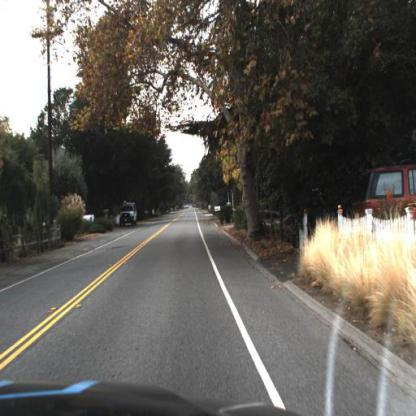car: (352, 166, 416, 246), (119, 200, 140, 229), (80, 210, 97, 228)
